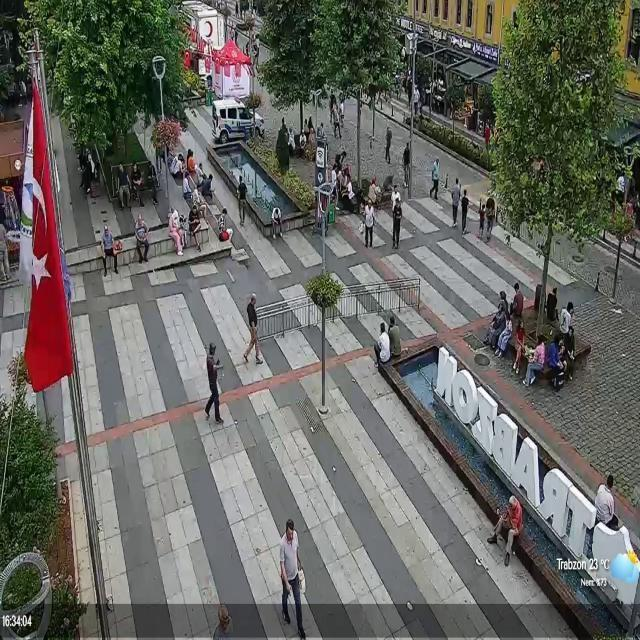Truck: (212, 98, 265, 142)
